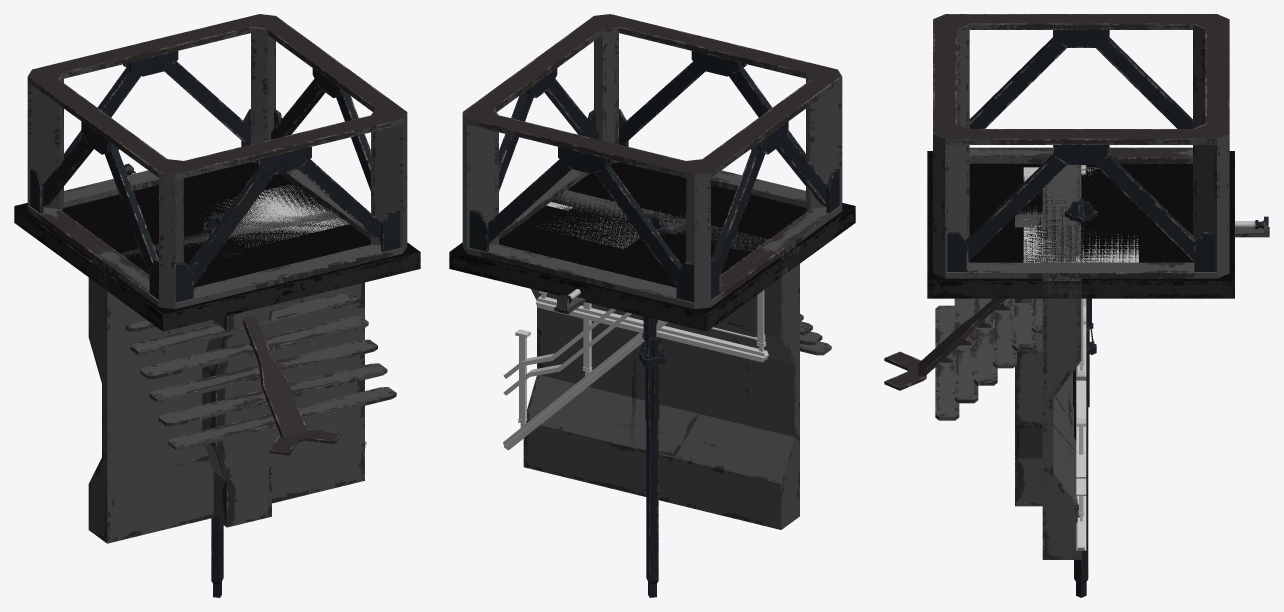
File: Scifi.fbx
3 views of the same model, side by side, from view 1: azimuth 30°, elevation 25°; view 2: azimuth 150°, elevation 25°; view 3: azimuth 270°, elevation 25° (orthographic). The views are drawn at different scales.
Visible parts, largest first — view 1: pasted__Structure_01.001, pasted__Stairs_01.001, pasted__Wall_01, Floor_10, pasted__Wall_03, pasted__Pole_05, Floor_06, pasted__Floor_04.001, Plate_13, pasted__Wall_02, Pole_01, pasted__Floor_02 (+1 smaller); view 2: pasted__Structure_01.001, pasted__Wall_01, Floor_06, Floor_10, pasted__Floor_02, pasted__Wall_03, pasted__Fence_02, Pole_01, pasted__Pole_05, pasted__Fence_01.001, pasted__Wall_02, pasted__Floor_04.001 (+2 smaller); view 3: pasted__Structure_01.001, pasted__Floor_05.001, pasted__Wall_01, pasted__Stairs_01.001, Floor_06, pasted__Pole_05, pasted__Wall_02, Floor_10, pasted__Floor_04.001, Pole_01, pasted__Fence_02, Plate_13 (+5 smaller).
Boxes of the visible parts, x1,y1,x2,y2 form: pasted__Structure_01.001: (27,14,407,309); pasted__Stairs_01.001: (125,292,396,455); pasted__Wall_01: (88,212,364,543); Floor_10: (14,162,420,331); pasted__Wall_03: (88,214,364,543); pasted__Pole_05: (202,223,283,527); Floor_06: (14,163,420,327); pasted__Floor_04.001: (42,162,419,331); Plate_13: (217,184,348,246); pasted__Wall_02: (88,217,309,537); Pole_01: (205,212,224,597); pasted__Floor_02: (140,170,417,312); pasted__Structure_01.001: (462,14,842,309); pasted__Wall_01: (523,196,799,529); Floor_06: (449,162,855,331); Floor_10: (449,162,855,331); pasted__Floor_02: (484,162,853,313); pasted__Wall_03: (532,210,799,524); pasted__Fence_02: (503,302,667,450); Pole_01: (639,212,670,597); pasted__Pole_05: (630,214,699,497); pasted__Fence_01.001: (535,202,768,362); pasted__Wall_02: (528,190,799,442); pasted__Floor_04.001: (450,170,736,331); pasted__Structure_01.001: (933,14,1229,278); pasted__Floor_05.001: (928,152,1234,298); pasted__Wall_01: (1042,165,1081,559); pasted__Stairs_01.001: (884,205,1111,420); Floor_06: (927,151,1234,298); pasted__Pole_05: (1015,206,1076,506); pasted__Wall_02: (1042,165,1081,559); Floor_10: (927,151,1234,298); pasted__Floor_04.001: (927,152,1234,298); Pole_01: (1066,199,1098,597); pasted__Fence_02: (1076,298,1086,550); Plate_13: (1023,219,1138,262).
Bounding box in the file's own units: 501 × 869 × 584.
